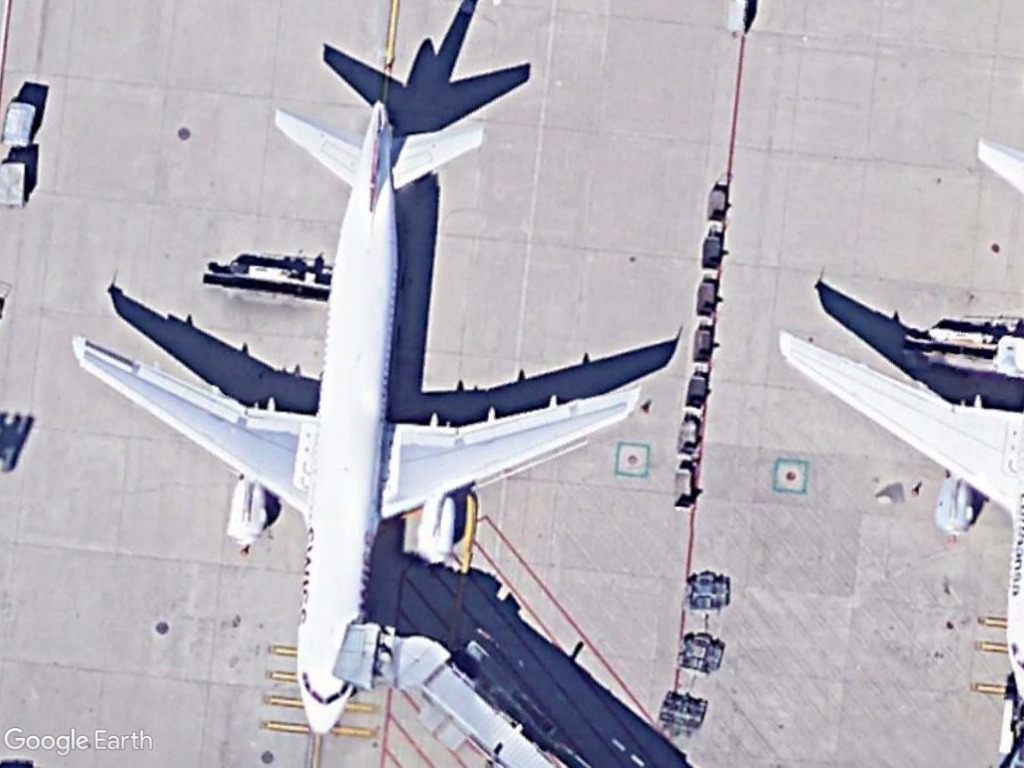airliner: (67, 84, 642, 744)
